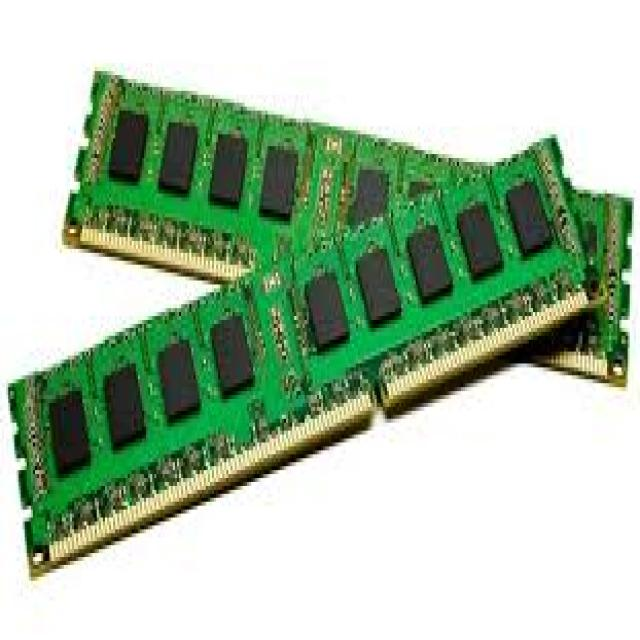Ram: (19, 71, 604, 544)
